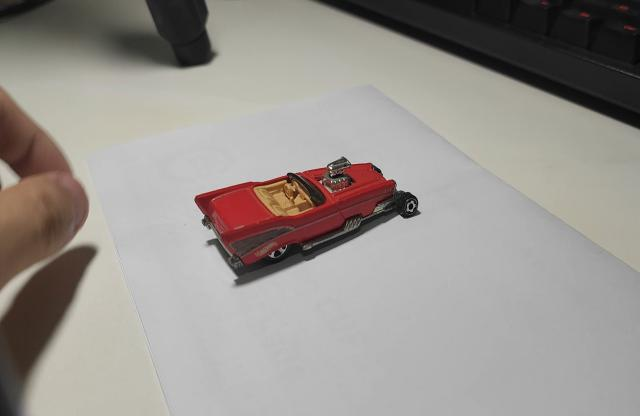03_V8: (193, 159, 418, 287)
